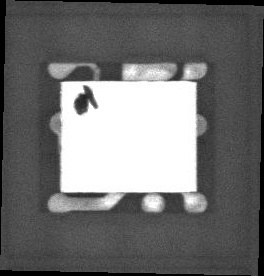DIE_INK: (70, 89, 94, 121)
